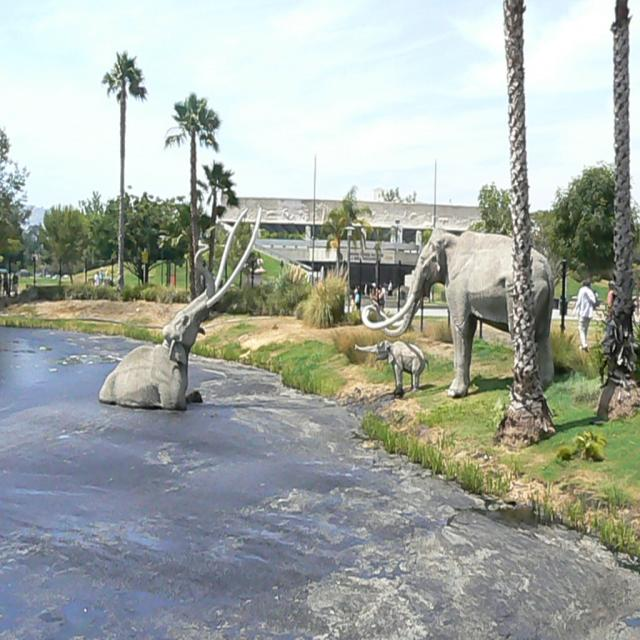elephant: (372, 228, 561, 400), (358, 335, 431, 387)
